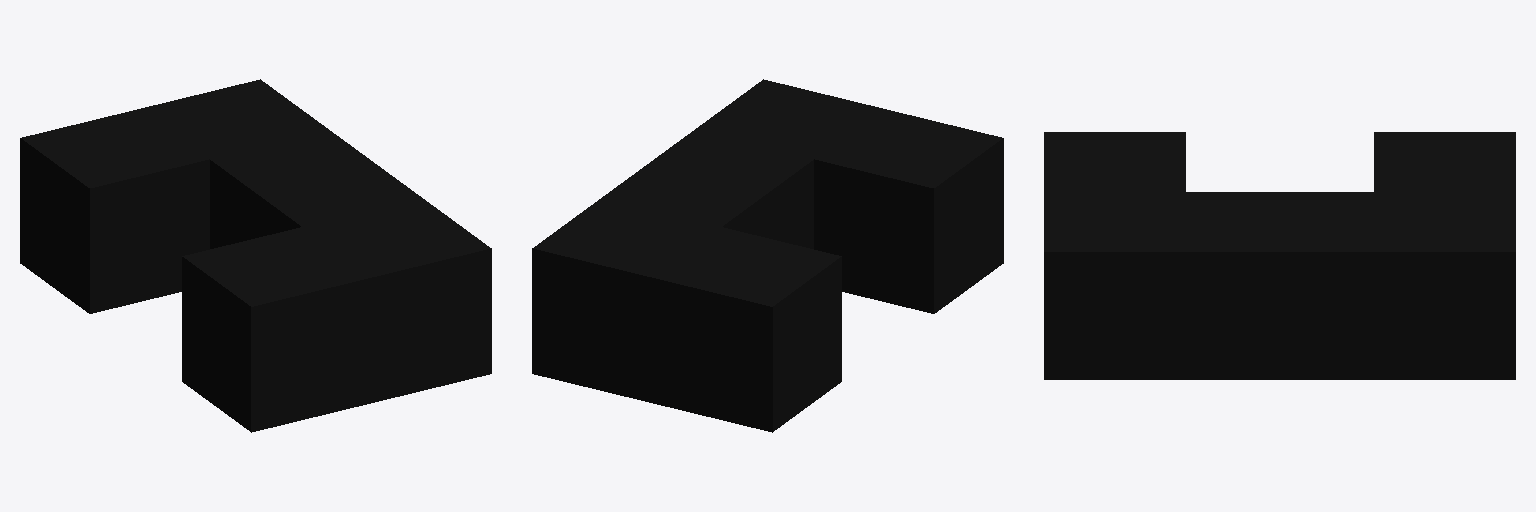
URDF robot description (block_female):
<robot name="block_female">
  <link name = "block_body">
    <visual>
      <geometry>
        <box size="0.3 1 0.3"/>
      </geometry>
      <material name="grey">
        <color rgba="0.1 0.1 0.1 1"/>
      </material>
    </visual>
    <collision>
      <geometry>
        <box size="0.3 1 0.3"/>
      </geometry>
    </collision>
    <inertial>
      <!-- <origin xyz="1 1 1" rpy="0 0 0" /> -->
      <mass value="10"/>
      <inertia ixx="0.4" ixy="0.0" ixz="0.0" iyy="0.4" iyz="0.0" izz="0.2"/>
    </inertial>
    <contact>
      <lateral_friction value="1.0"/>
      <rolling_friction value="0.0"/>
      <contact_cfm value="0.0"/>
      <contact_erp value="1.0"/>
    </contact>
  </link>
  <link name="block_arm_left">
    <visual>
      <geometry>
        <box size="0.3 0.3 0.3"/>
      </geometry>
      <origin rpy="0 0 0" xyz="0 0 0"/>
      <material name="grey">
        <color rgba="0.1 0.1 0.1 1"/>
      </material>
    </visual>
    <collision>
      <geometry>
        <box size="0.3 0.3 0.3"/>
      </geometry>
      <origin rpy="0 0 0" xyz="0 0 0"/>
    </collision>
    <inertial>
      <mass value="10"/>
      <inertia ixx="0.4" ixy="0.0" ixz="0.0" iyy="0.4" iyz="0.0" izz="0.2"/>
    </inertial>
    <contact>
      <lateral_friction value="1.0"/>
      <rolling_friction value="0.0"/>
      <contact_cfm value="0.0"/>
      <contact_erp value="1.0"/>
    </contact>
  </link>
  <link name="block_arm_right">
    <visual>
      <geometry>
        <box size="0.3 0.3 0.3"/>
      </geometry>
      <origin rpy="0 0 0" xyz="0 0 0"/>
      <material name="grey">
        <color rgba="0.1 0.1 0.1 1"/>
      </material>
    </visual>
    <collision>
      <geometry>
        <box size="0.3 0.3 0.3"/>
      </geometry>
      <origin rpy="0 0 0" xyz="0 0 0"/>
    </collision>
    <inertial>
      <mass value="10"/>
      <inertia ixx="0.4" ixy="0.0" ixz="0.0" iyy="0.4" iyz="0.0" izz="0.2"/>
    </inertial>
    <contact>
      <lateral_friction value="1.0"/>
      <rolling_friction value="0.0"/>
      <contact_cfm value="0.0"/>
      <contact_erp value="1.0"/>
    </contact>
  </link>
  <joint name="body_left_arm" type="fixed">
    <parent link="block_body"/>
    <child link="block_arm_left"/>
    <origin xyz="-0.3 0.35 0"/>
  </joint>
  <joint name="body_right_arm" type="fixed">
    <parent link="block_body"/>
    <child link="block_arm_right"/>
    <origin xyz="-0.3 -0.35 0"/>
  </joint>
</robot>

--- What the picture shows (computed from the rendered views, not written in the file) ---
The picture shows the robot from 3 angles, left to right: view 1: azimuth 30°, elevation 25°; view 2: azimuth 150°, elevation 25°; view 3: azimuth 270°, elevation 25°; orthographic projection.
Robot: block_female — 3 links, 2 joints (2 fixed); root link block_body; default pose: every joint at zero.
Visible links, largest first — view 1: block_body, block_arm_right, block_arm_left; view 2: block_body, block_arm_left, block_arm_right; view 3: block_body, block_arm_left, block_arm_right.
Boxes of the visible links, x1=… form: block_body: x1=141, y1=79, x2=491, y2=402; block_arm_right: x1=182, y1=227, x2=370, y2=432; block_arm_left: x1=20, y1=109, x2=209, y2=313; block_body: x1=532, y1=79, x2=882, y2=402; block_arm_left: x1=653, y1=227, x2=841, y2=432; block_arm_right: x1=814, y1=109, x2=1003, y2=313; block_body: x1=1044, y1=192, x2=1515, y2=379; block_arm_left: x1=1374, y1=132, x2=1515, y2=191; block_arm_right: x1=1044, y1=132, x2=1185, y2=191.
Size in the robot's own frame: 0.6 by 1 by 0.3 metres.
Geometry: primitives only (box / cylinder / sphere), no mesh files.